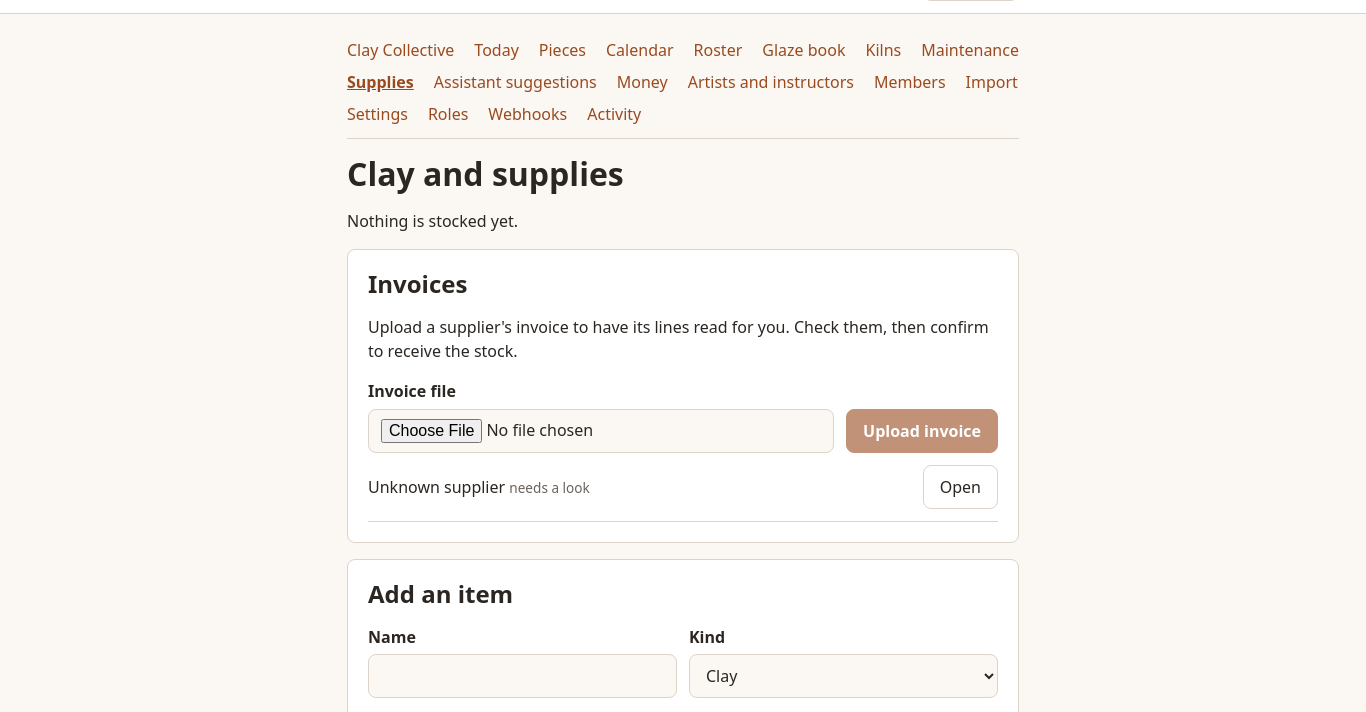
Supplies inbox › formats documentType labels cleanly in Compare readers
Click the button "Open". click: x=960, y=487
box: [923,465,998,509]
(page scrolled)
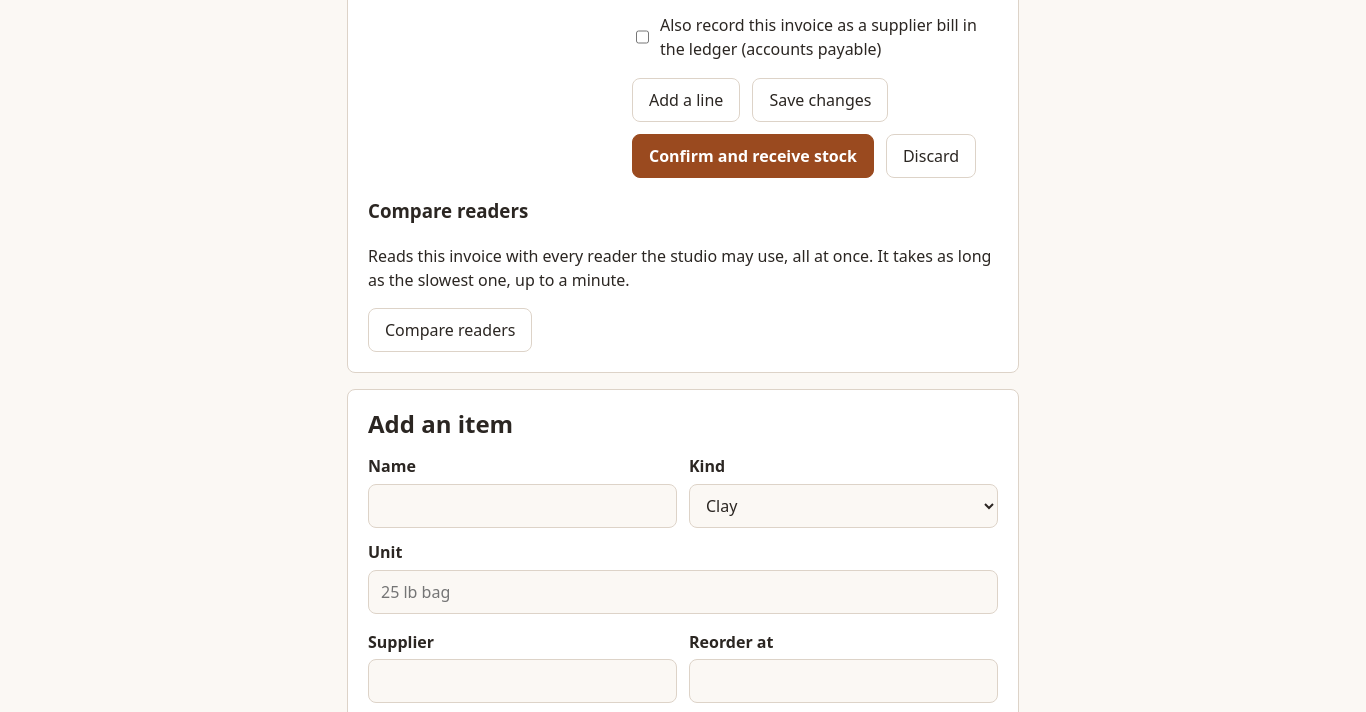
Click the button "Compare readers". click: x=450, y=330
box: [368,308,532,352]
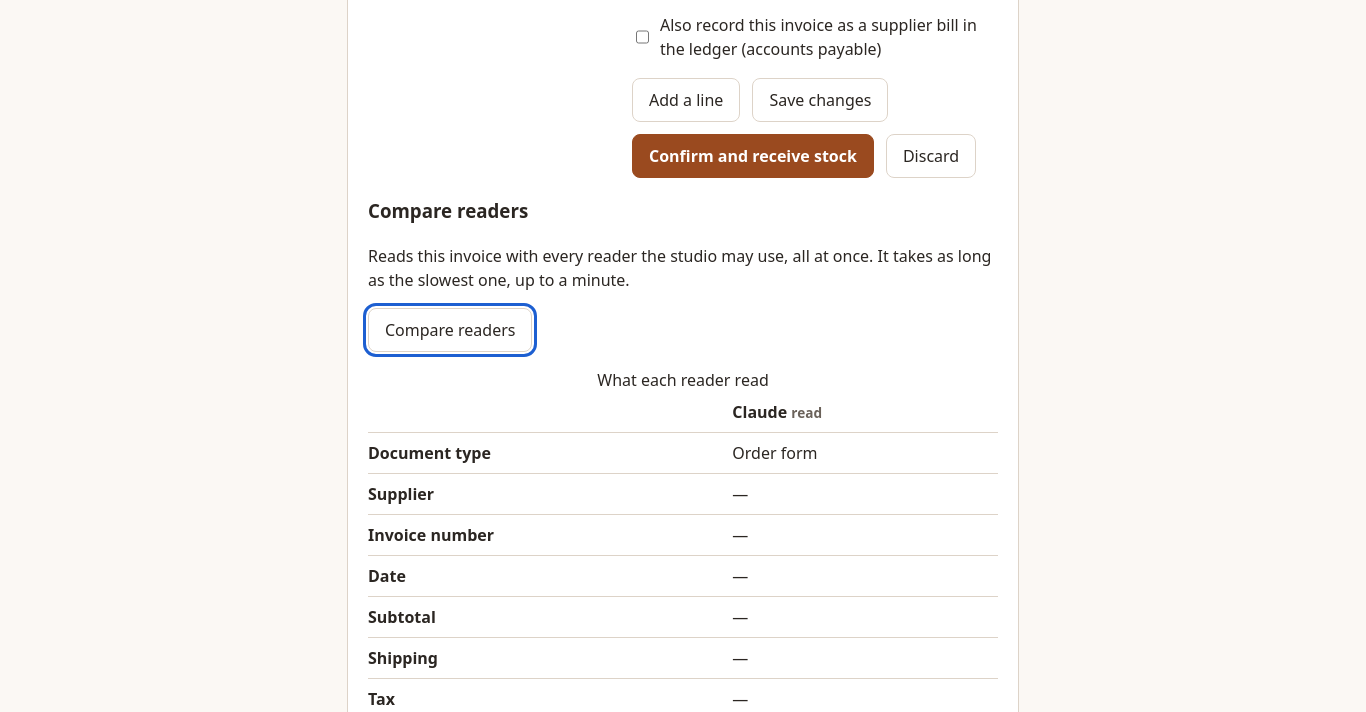
Now the text "Order form" is shown, box [732,432,998,473]
